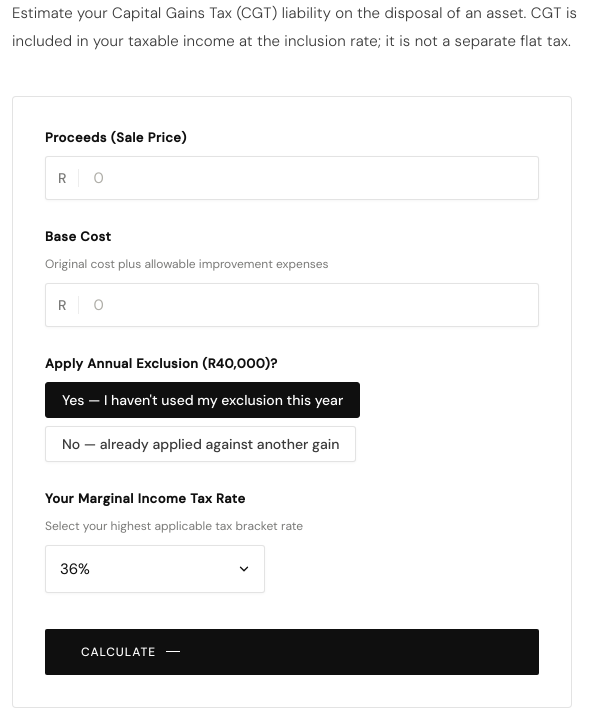
Scenario: CgtCalculator › GIVEN a capital loss (proceeds less than base cost) › WHEN there is a capital loss, THEN effective CGT rate is 0.00% (capitalGain <= 0 branch)
In the number field with placeholder "0" below "Proceeds (Sale Price)": (309, 178) [80, 156, 538, 198], type "150000"
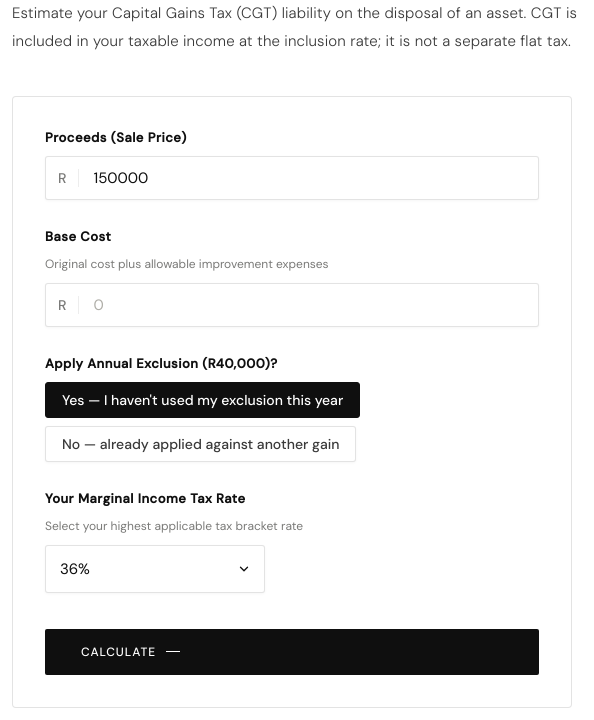
In the number field with placeholder "0": (309, 304) [80, 284, 538, 326], type "200000"
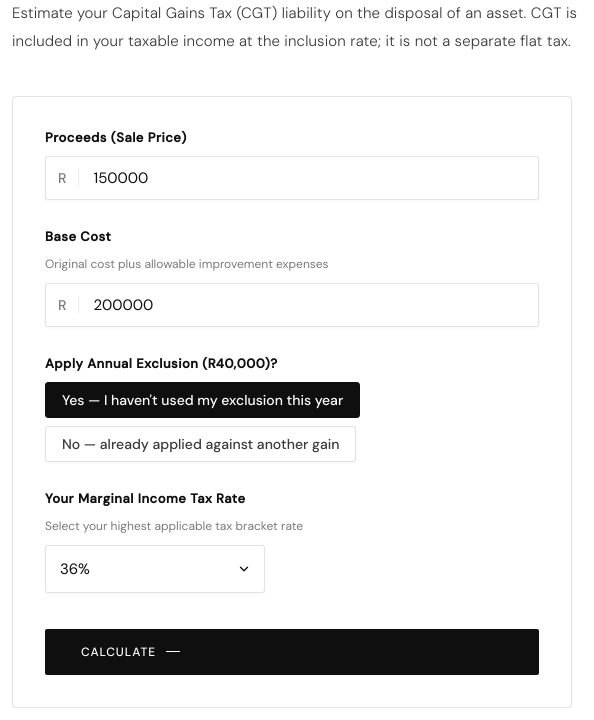
Select "36%" in the dropdown: (155, 568) [45, 544, 265, 592]
Click the button with class "calc-submit": (119, 652) [45, 628, 539, 674]
(page scrolled)
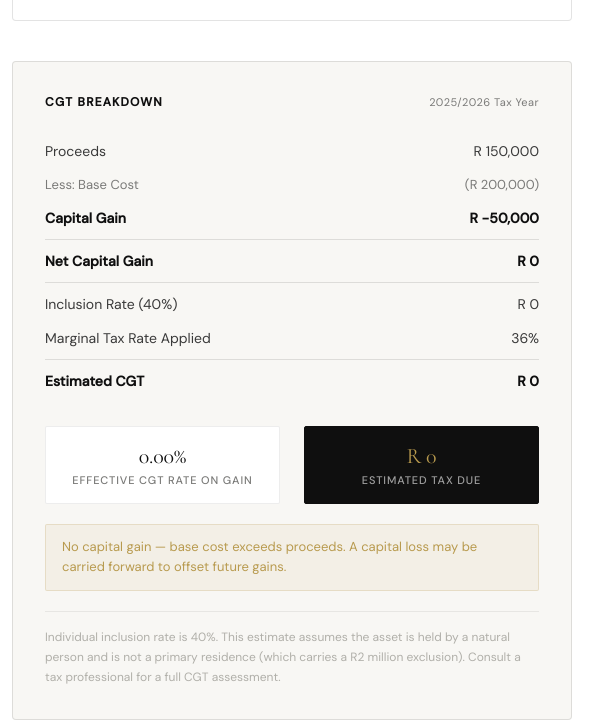
expect the element with class "calc-stat" shows "0.00": met, box [139, 442, 186, 468]
